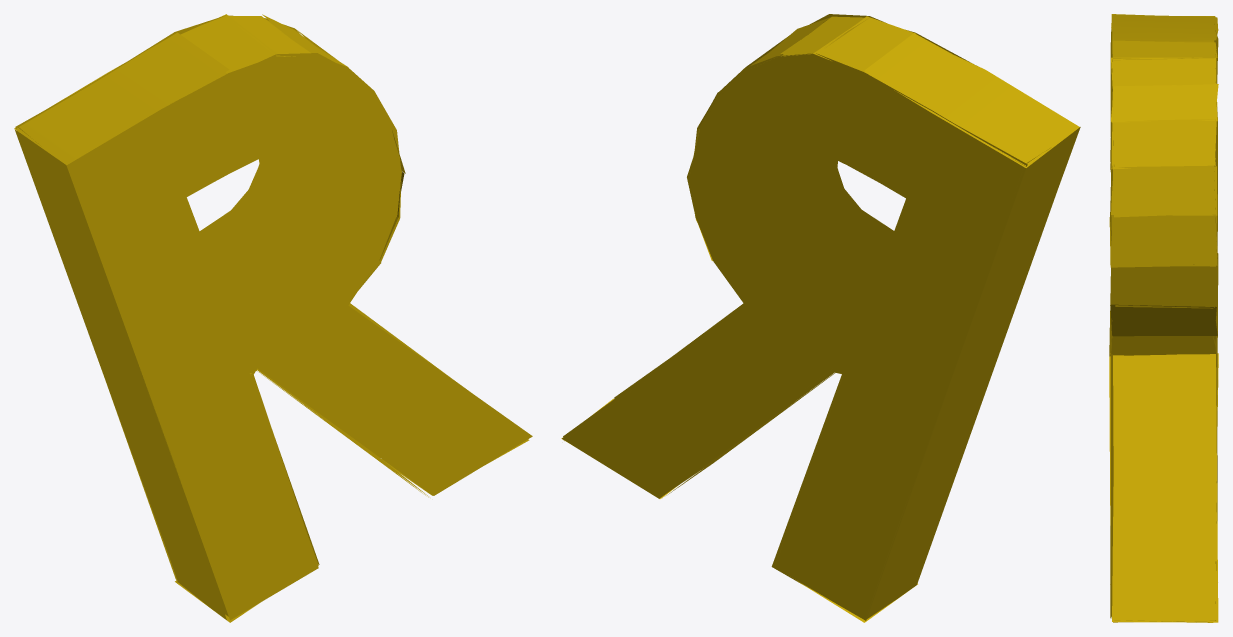
File: original_13.obj
The picture shows the model from 3 angles, left to right: view 1: azimuth 30°, elevation 25°; view 2: azimuth 150°, elevation 25°; view 3: azimuth 270°, elevation 25°; orthographic projection.
Visible parts, largest first — view 1: #ID86; view 2: #ID86; view 3: #ID86.
Part boxes in pixels (left/top/right/bottom): #ID86: left=14, top=14, right=532, bottom=622; #ID86: left=561, top=14, right=1080, bottom=622; #ID86: left=1109, top=14, right=1218, bottom=622.
Bounding box in the file's own units: 0.0303 × 0.0345 × 0.00622.
